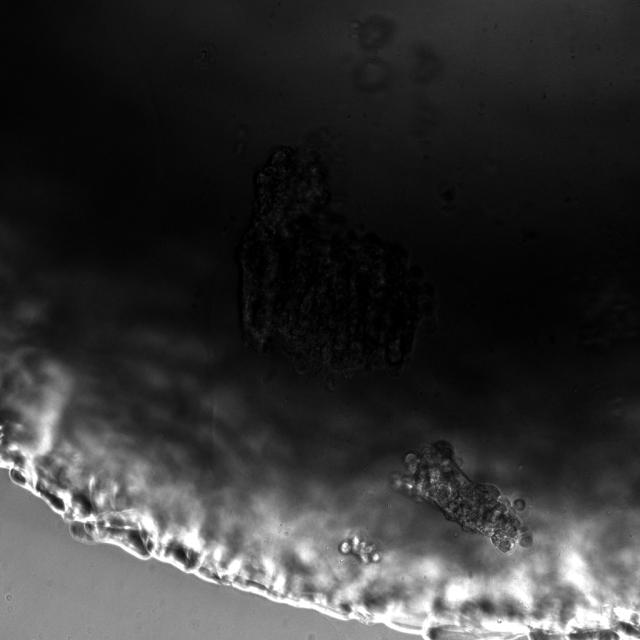organoid: (241, 147, 435, 378), (391, 440, 532, 552), (354, 15, 394, 49), (339, 532, 381, 563), (410, 44, 441, 83), (354, 59, 391, 91)
